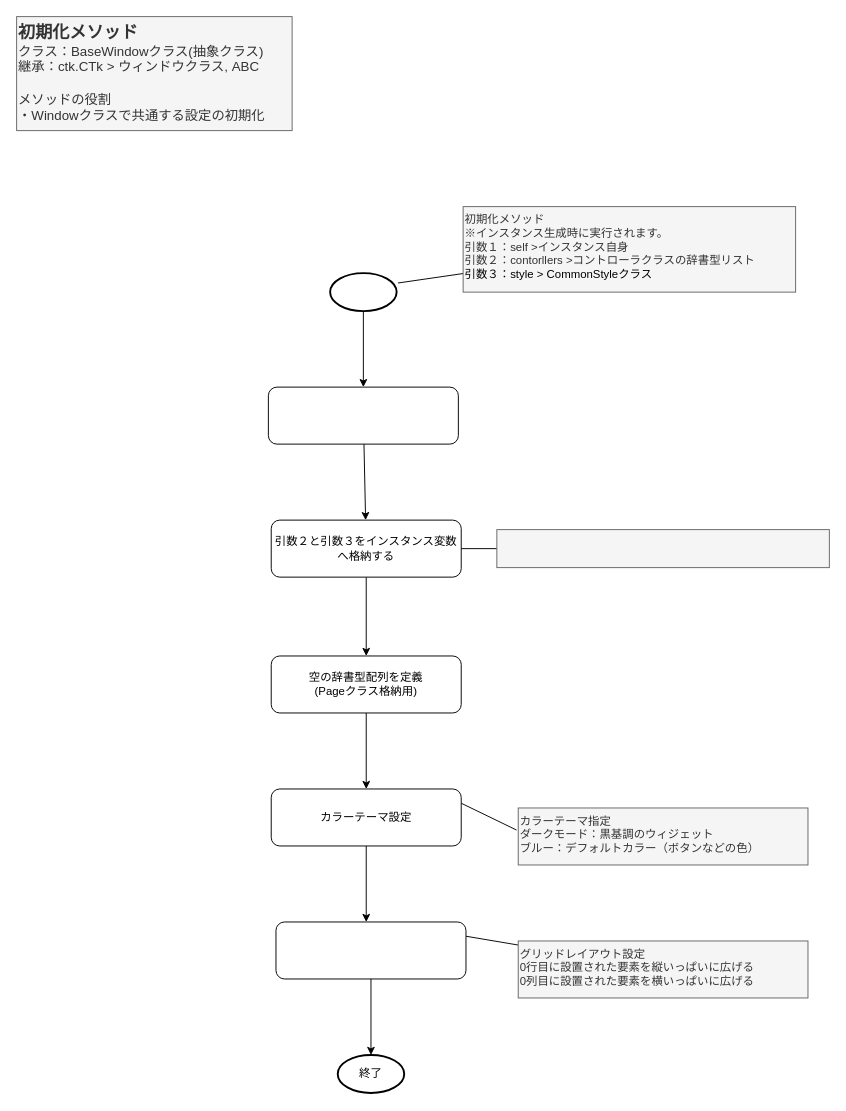
The diagram is 846 pixels wide and 1111 high, and some of its shapes have lost their labels. Each missing label, with the centre of its shape:
インスタンス変数[theme]に "dark"を代入: [362,415]
グリッドレイアウト設定: [370,950]
各ページクラスでコントローラクラスやスタイルクラスを取り出して使用するため: [662,548]
開始: [363,292]
